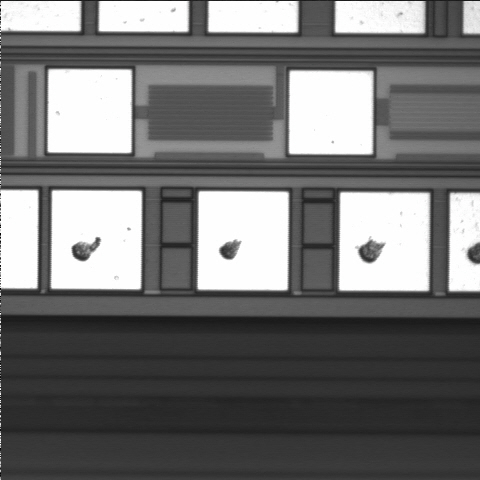pad: (51, 191, 142, 289), (198, 191, 288, 290), (339, 192, 429, 291), (48, 69, 132, 153), (289, 71, 373, 154)
